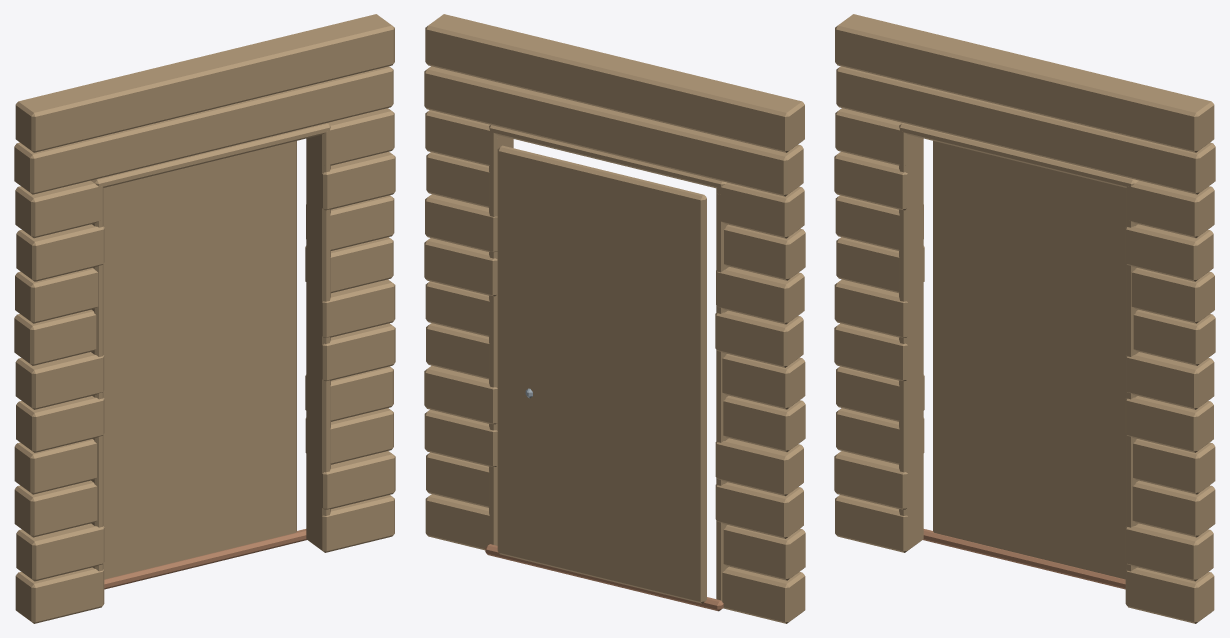
File: door.glb
3 views of the same model, side by side, from view 1: azimuth 30°, elevation 25°; view 2: azimuth 150°, elevation 25°; view 3: azimuth 330°, elevation 25° (orthographic).
Visible parts, largest first — view 1: door; view 2: door; view 3: door.
Part boxes in pixels (<box>): door: <box>14,14,395,623</box>; door: <box>424,14,805,623</box>; door: <box>834,14,1215,623</box>.
Bounding box in the file's own units: 2 × 2.68 × 0.2649.
